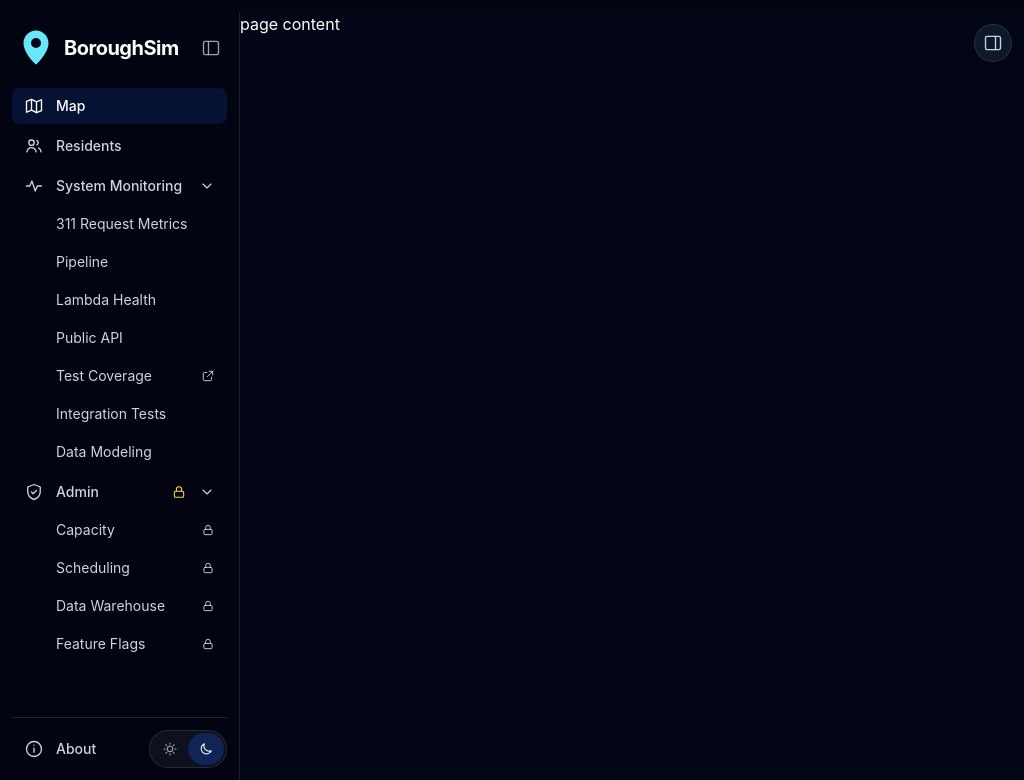
Test: WorkspaceShell — narrower viewports › medium: the secondary workspace auto-collapses but can be re-opened
The image size is (1024, 780).
Click the button named "Show secondary panel".
click(993, 43)  # box x1=974 y1=24 x2=1012 y2=62
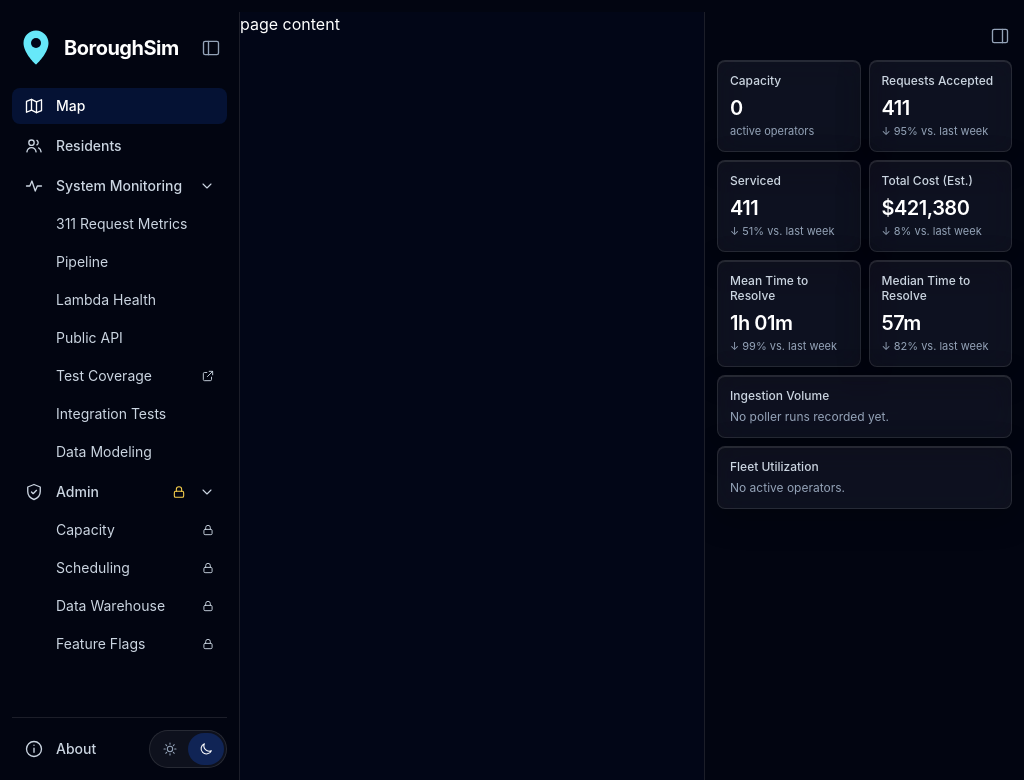
Expected: the element named "Secondary workspace" is shown, x1=704 y1=12 x2=1023 y2=779
